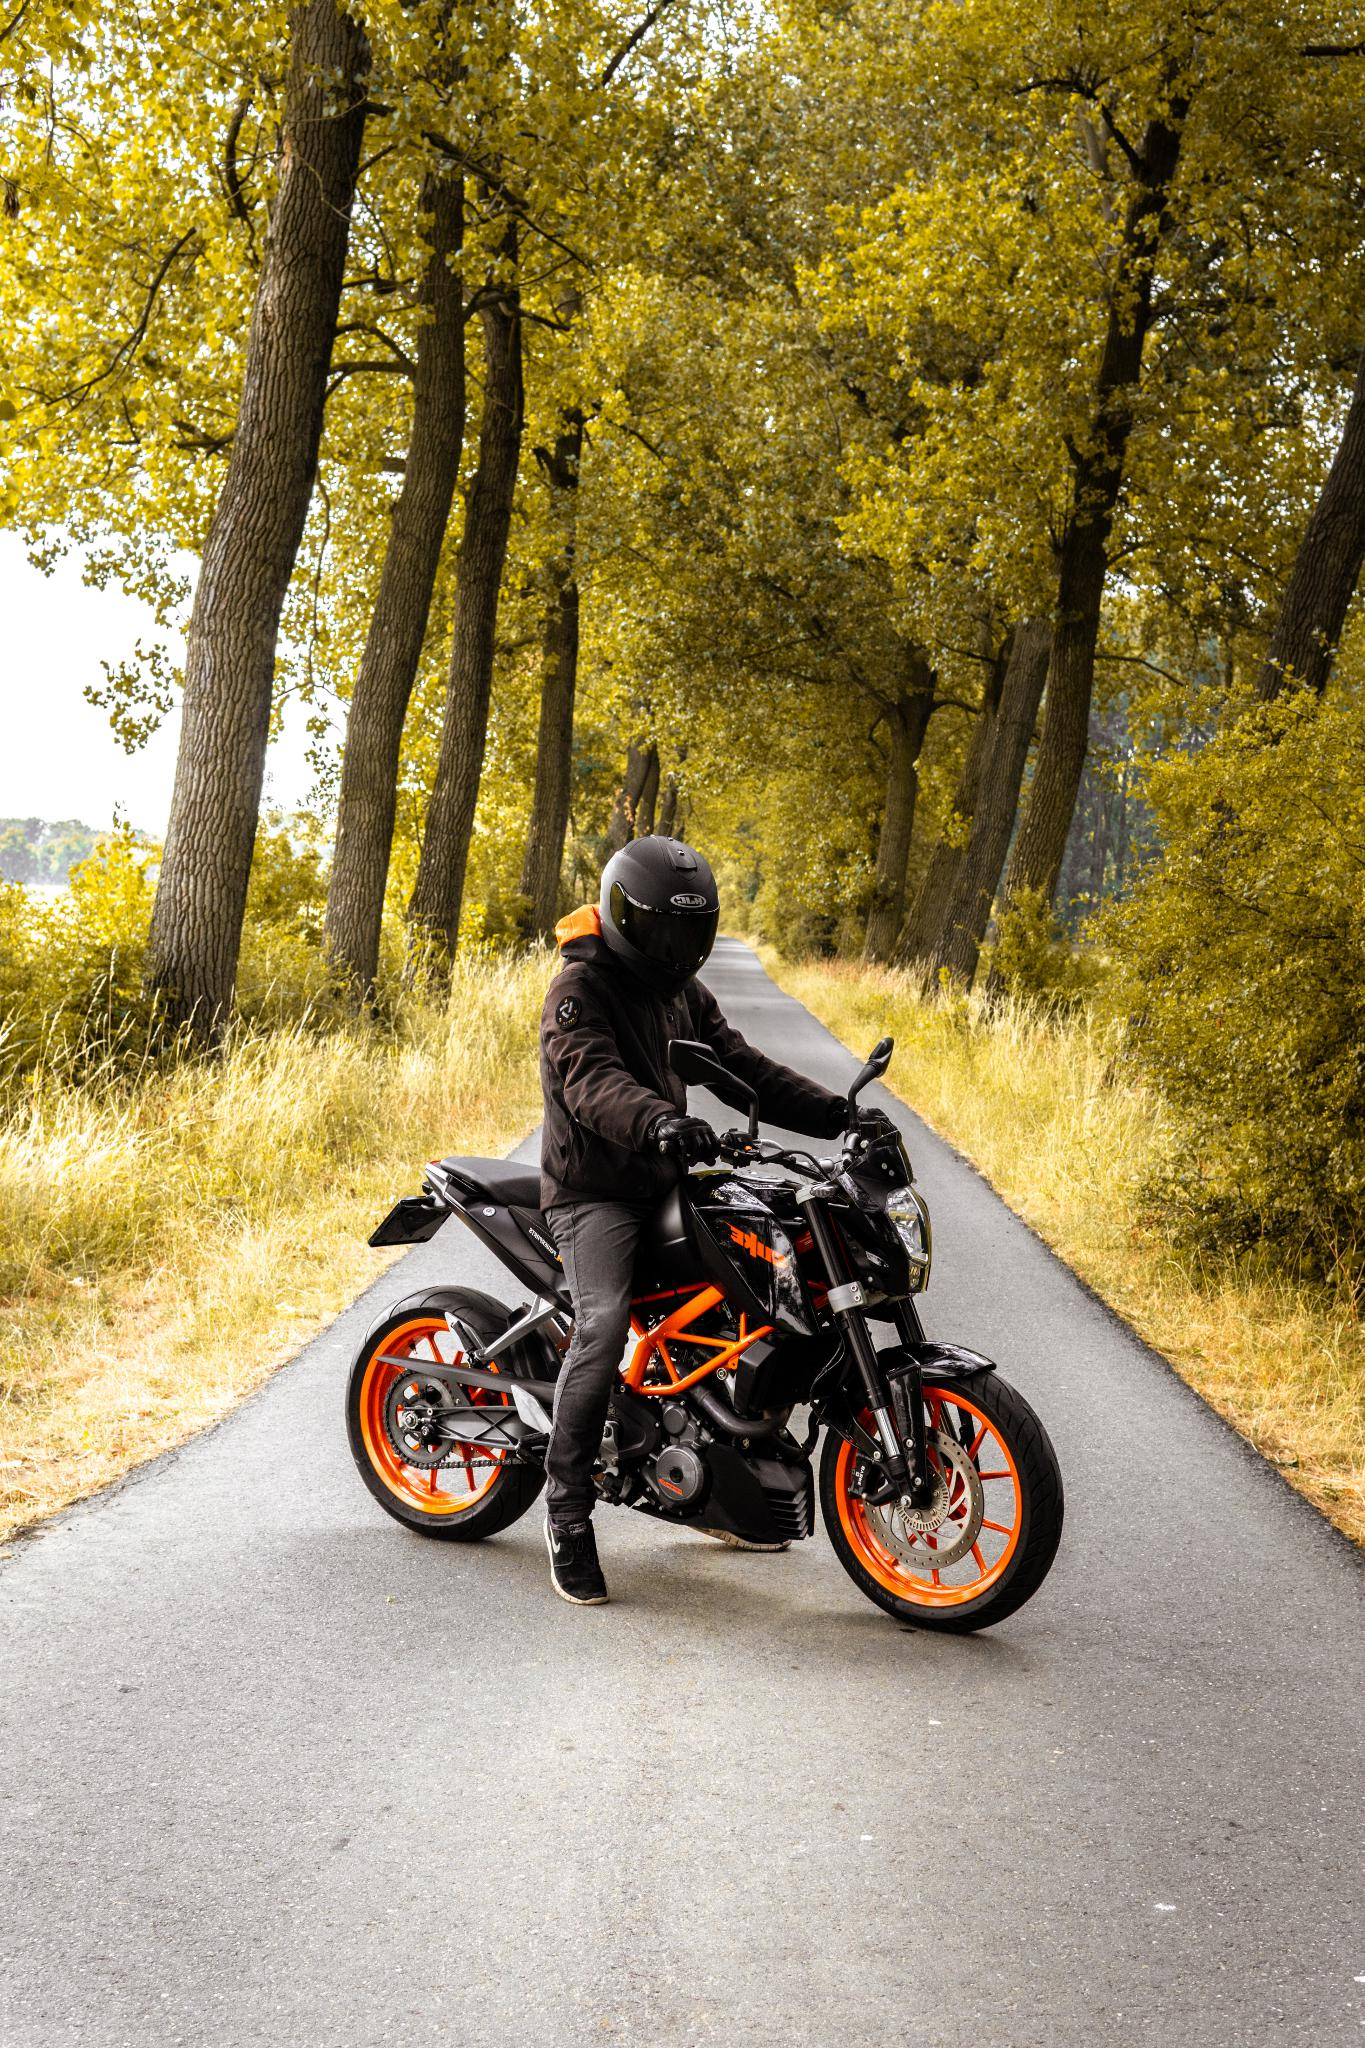motorcycle: (338, 1016, 1063, 1637)
